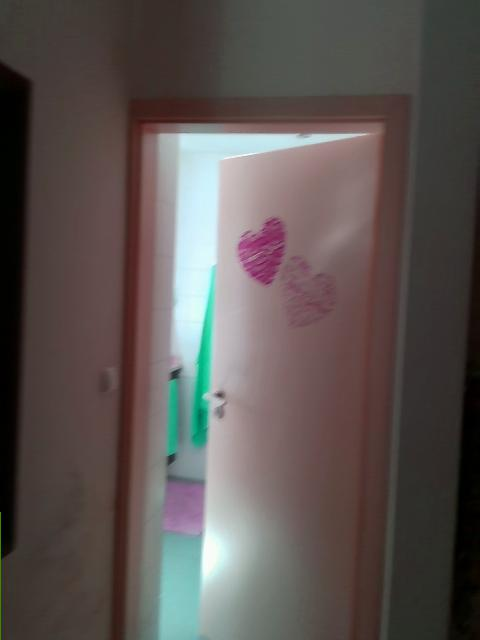semi_door: (109, 92, 411, 639)
